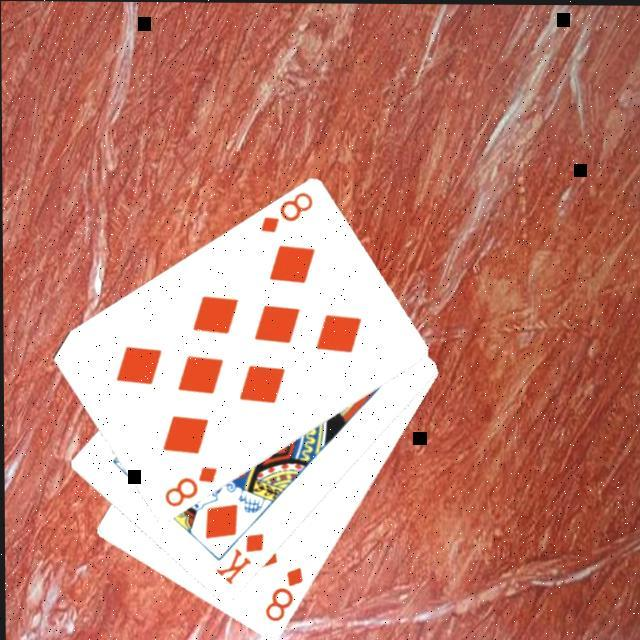8D: (161, 463, 221, 511), (257, 189, 317, 237), (261, 564, 307, 626)
KD: (212, 530, 268, 589)
